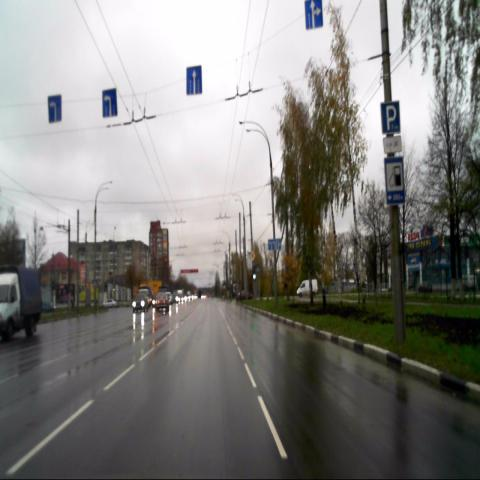5_15_1: (268, 239, 281, 250)
5_15_2: (305, 0, 323, 31), (186, 65, 202, 95), (102, 89, 118, 119), (48, 94, 61, 124)
6_4: (380, 100, 401, 133)
7_3: (384, 155, 404, 204)
8_8: (383, 135, 401, 153)
